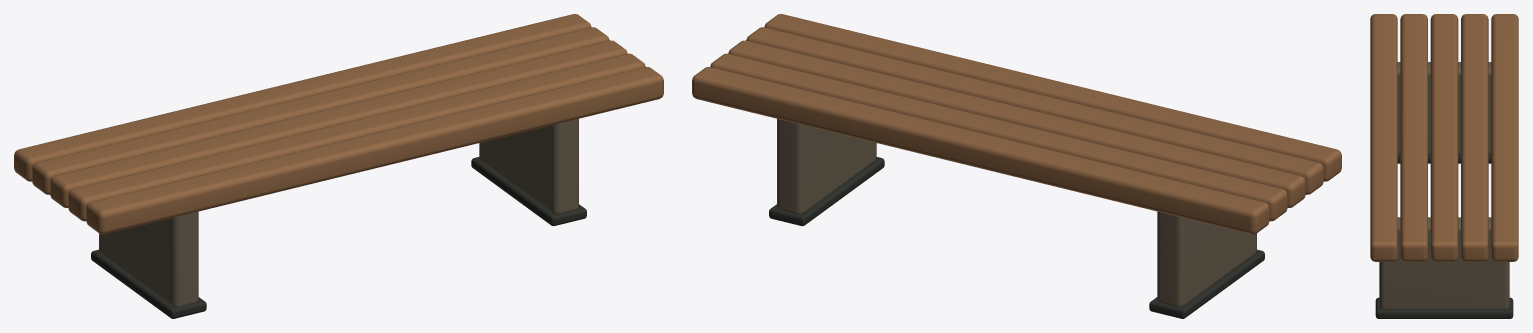
File: quiet_bench.glb
3 renders of one model, left to right at view 1: azimuth 30°, elevation 25°; view 2: azimuth 150°, elevation 25°; view 3: azimuth 270°, elevation 25°, orthographic. The views are drawn at different scales.
Visible parts, largest first — view 1: Oak seat slat 00.002, Bronze support.002, Recessed foot.002; view 2: Oak seat slat 00.002, Bronze support.002, Recessed foot.002; view 3: Oak seat slat 00.002, Bronze support.002, Recessed foot.002.
Part boxes in pixels (box(x1,y1,x2,y2)): Oak seat slat 00.002: box(14, 14, 663, 234); Bronze support.002: box(99, 119, 578, 306); Recessed foot.002: box(91, 157, 586, 318); Oak seat slat 00.002: box(692, 14, 1341, 234); Bronze support.002: box(777, 119, 1256, 306); Recessed foot.002: box(769, 157, 1264, 318); Oak seat slat 00.002: box(1370, 14, 1518, 261); Bronze support.002: box(1379, 62, 1509, 309); Recessed foot.002: box(1375, 154, 1513, 318).
Size of the model in its own units: 2.35 by 0.5065 by 0.638.
